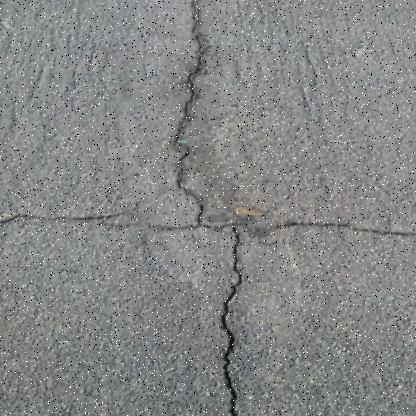Cracks: (160, 0, 267, 415), (4, 201, 141, 238), (264, 211, 416, 242)
